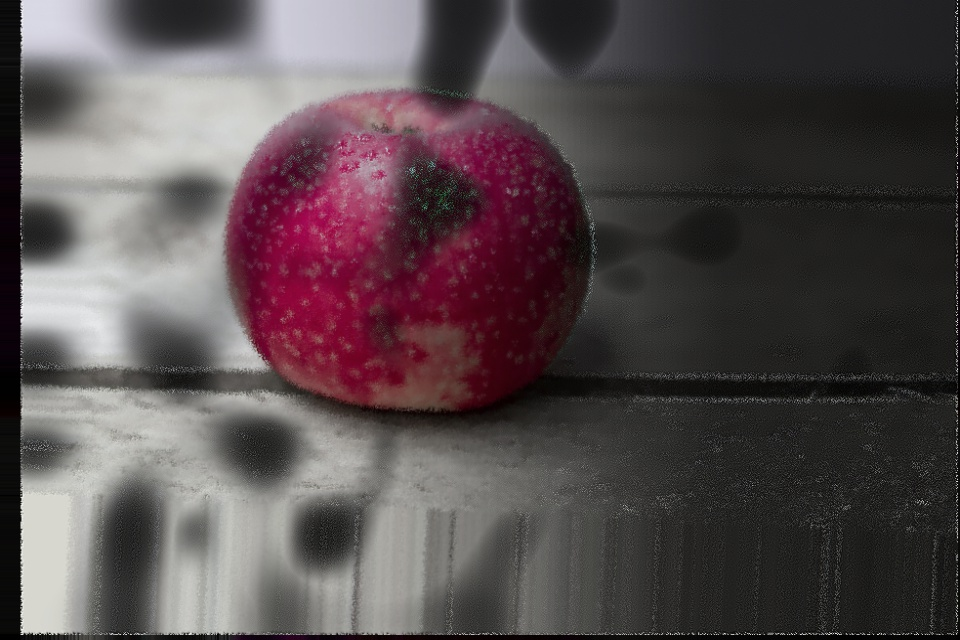apple: (174, 63, 629, 430)
